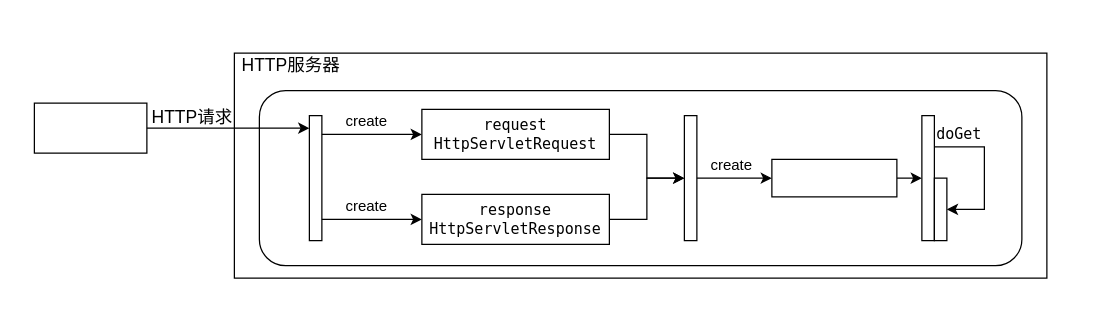
Image size: 1105x318. Some labels were removed from this diagram. Here are the shapes that lost their labels. From the top down, the centre of each, then its label:
At (90,127): "浏览器".
At (834,177): "HttpServlet".
